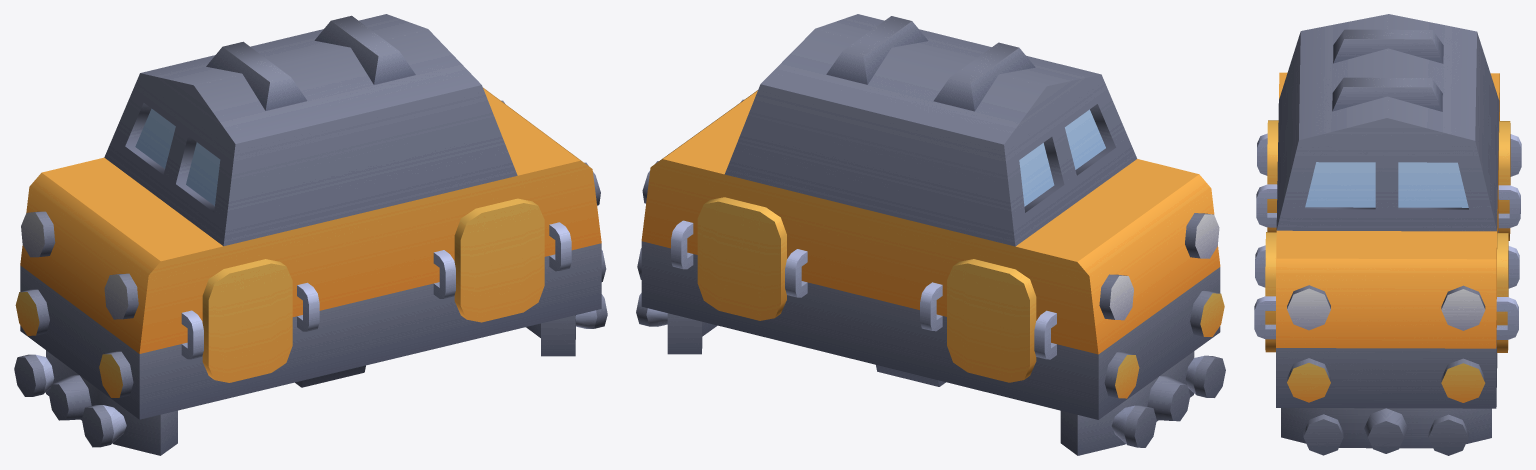
Rendered from train-diesel-a_lev2.glb.
The picture shows the model from 3 angles, left to right: view 1: azimuth 30°, elevation 25°; view 2: azimuth 150°, elevation 25°; view 3: azimuth 270°, elevation 25°; orthographic projection. The views are drawn at different scales.
Parts seen in each view (by area): view 1: train-diesel-a_lev2; view 2: train-diesel-a_lev2; view 3: train-diesel-a_lev2.
Boxes of the visible parts, x1,y1,x2,y2 form: train-diesel-a_lev2: [14, 14, 607, 455]; train-diesel-a_lev2: [636, 14, 1225, 455]; train-diesel-a_lev2: [1254, 14, 1521, 455].
Bounding box in the file's own units: 2.41 × 1.44 × 1.21.
Materials: 1 (1 with a texture image).
